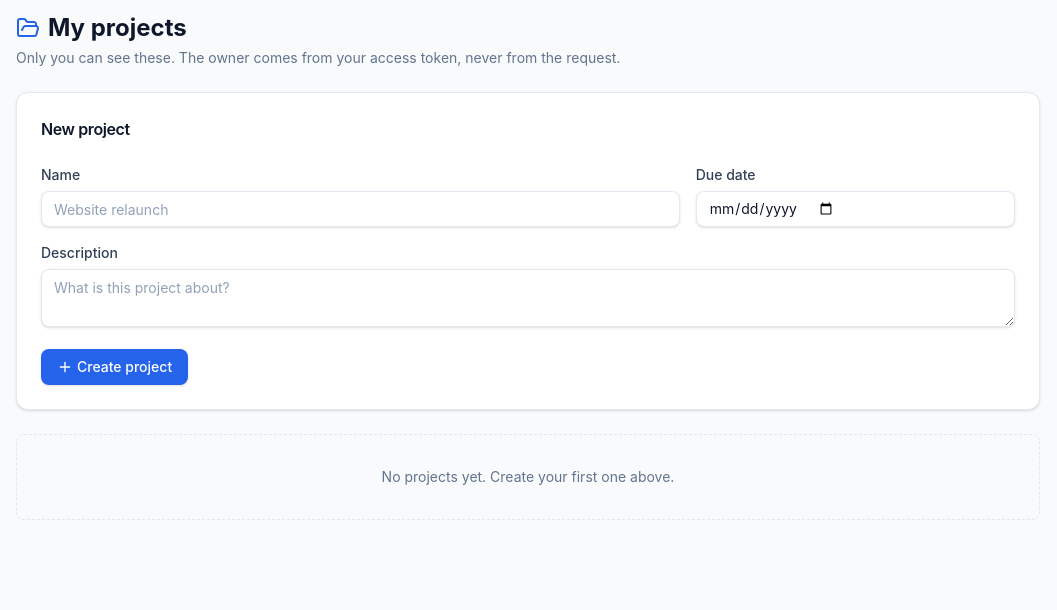
Test case: Projects page › creates a project without sending an owner, then reloads the list
The image size is (1057, 610).
In the field labelled "Name": (360, 209) [41,191,680,227], type "Mobile app"
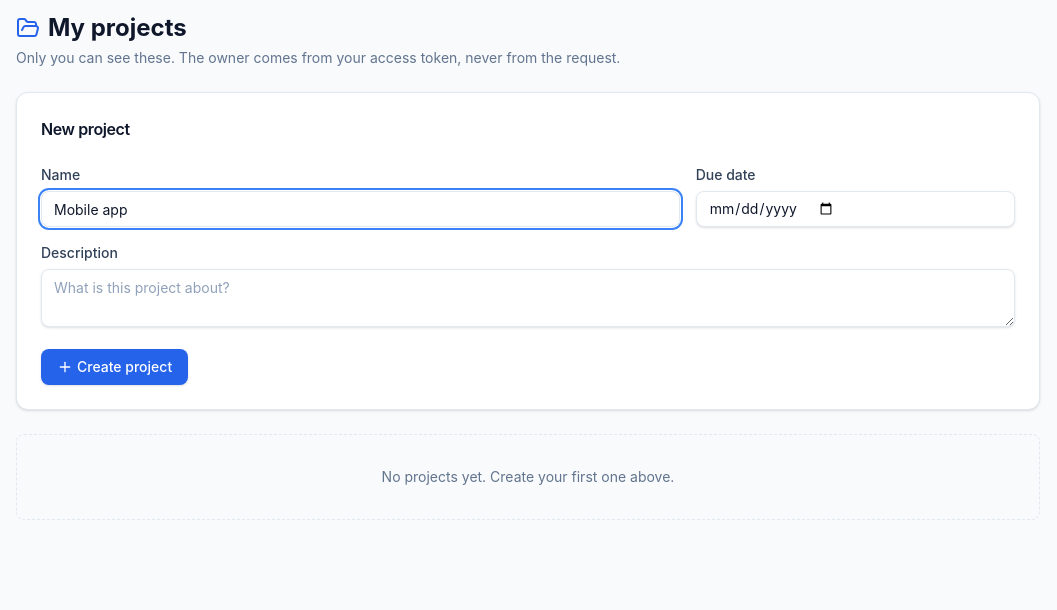
Click the button "Create project": (115, 367) [41,349,188,385]
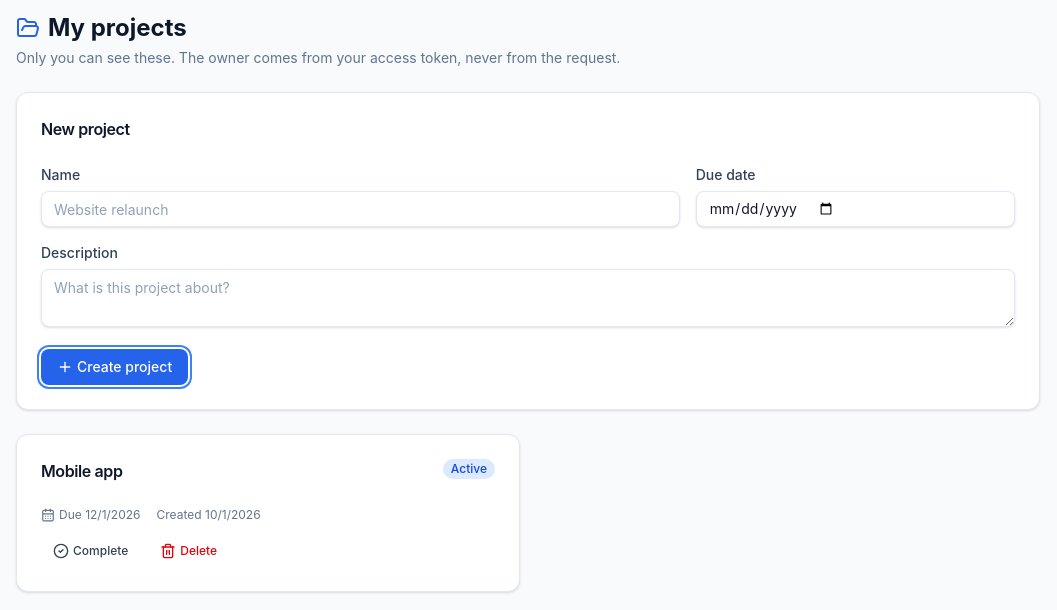
Now the heading "Mobile app" is shown, box [41,459,122,483]
